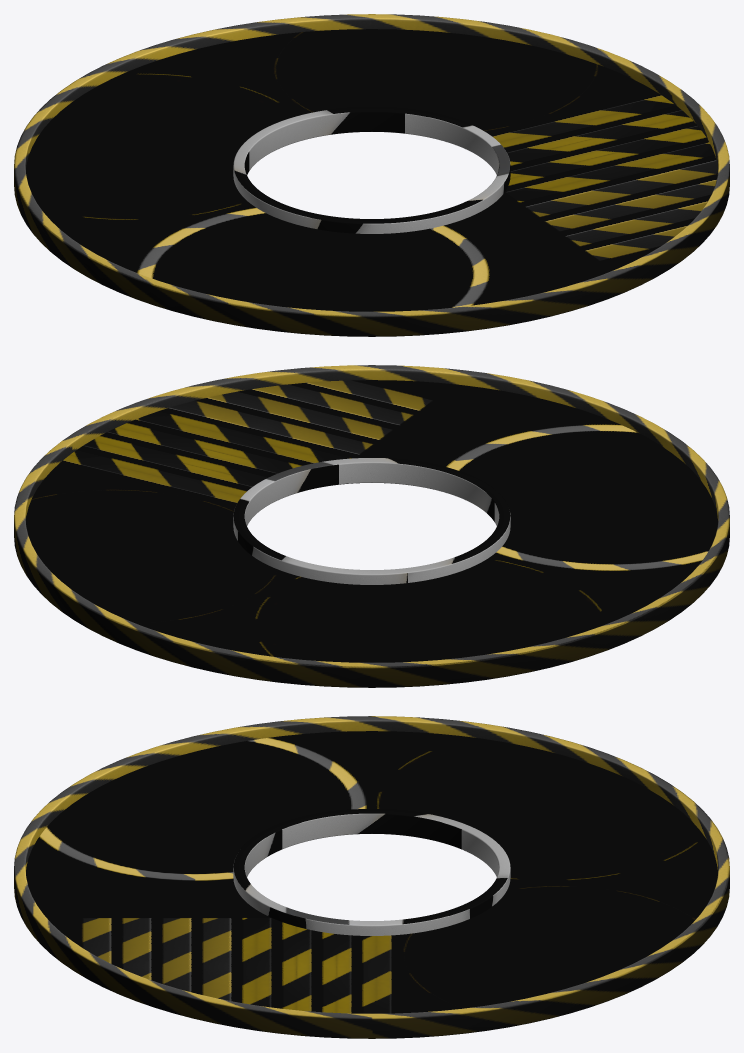
File: arena_2_export_2.dae
The picture shows the model from 3 angles, top to bottom: view 1: azimuth 30°, elevation 25°; view 2: azimuth 150°, elevation 25°; view 3: azimuth 270°, elevation 25°; orthographic projection.
Visible parts, largest first — view 1: floor.1, outertube.1, innertube.1; view 2: floor.1, outertube.1, innertube.1; view 3: floor.1, outertube.1, innertube.1.
Part boxes in pixels (x1=…): floor.1: x1=26, y1=29, x2=717, y2=311; outertube.1: x1=14, y1=14, x2=729, y2=336; innertube.1: x1=233, y1=107, x2=510, y2=233; floor.1: x1=26, y1=380, x2=717, y2=662; outertube.1: x1=14, y1=365, x2=729, y2=687; innertube.1: x1=233, y1=458, x2=510, y2=584; floor.1: x1=26, y1=731, x2=717, y2=1013; outertube.1: x1=14, y1=716, x2=729, y2=1038; innertube.1: x1=233, y1=809, x2=510, y2=935.
Size of the model in its own units: 31 by 1 by 31.
Materials: 3 (3 with a texture image).
